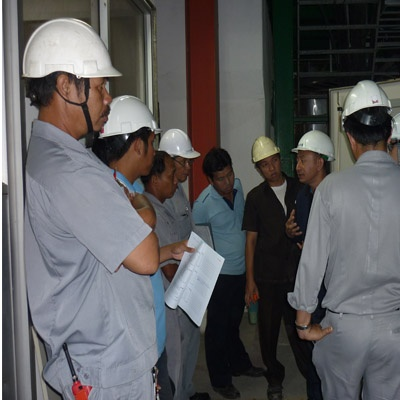none: (141, 149, 180, 198), (202, 146, 237, 194)
white: (26, 17, 114, 138), (103, 96, 156, 178), (341, 79, 393, 158), (291, 129, 333, 185), (161, 128, 195, 180)
yellow: (251, 134, 283, 183)
